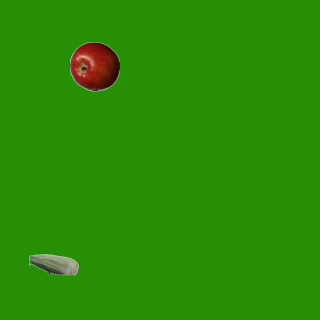Apple Braeburn: (69, 41, 119, 91)
Corn Husk: (28, 239, 78, 289)
